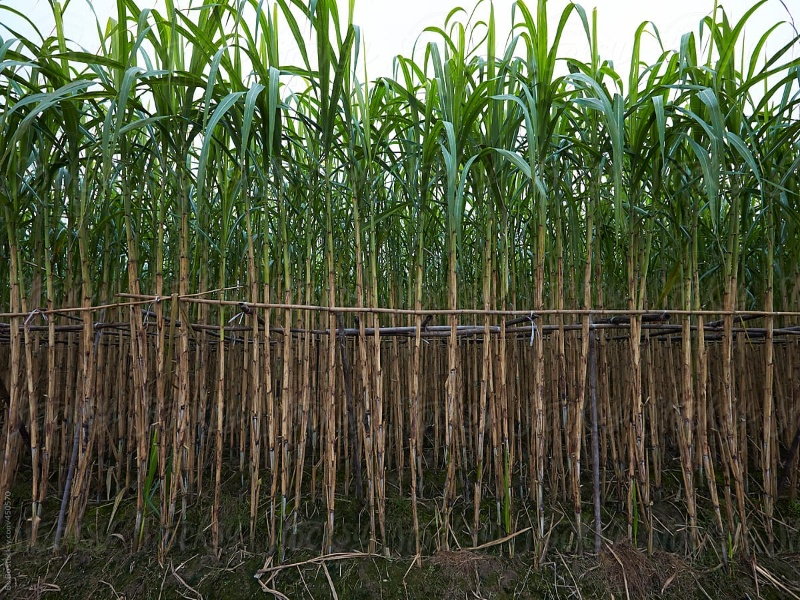sugarcane: (1, 1, 785, 579)
